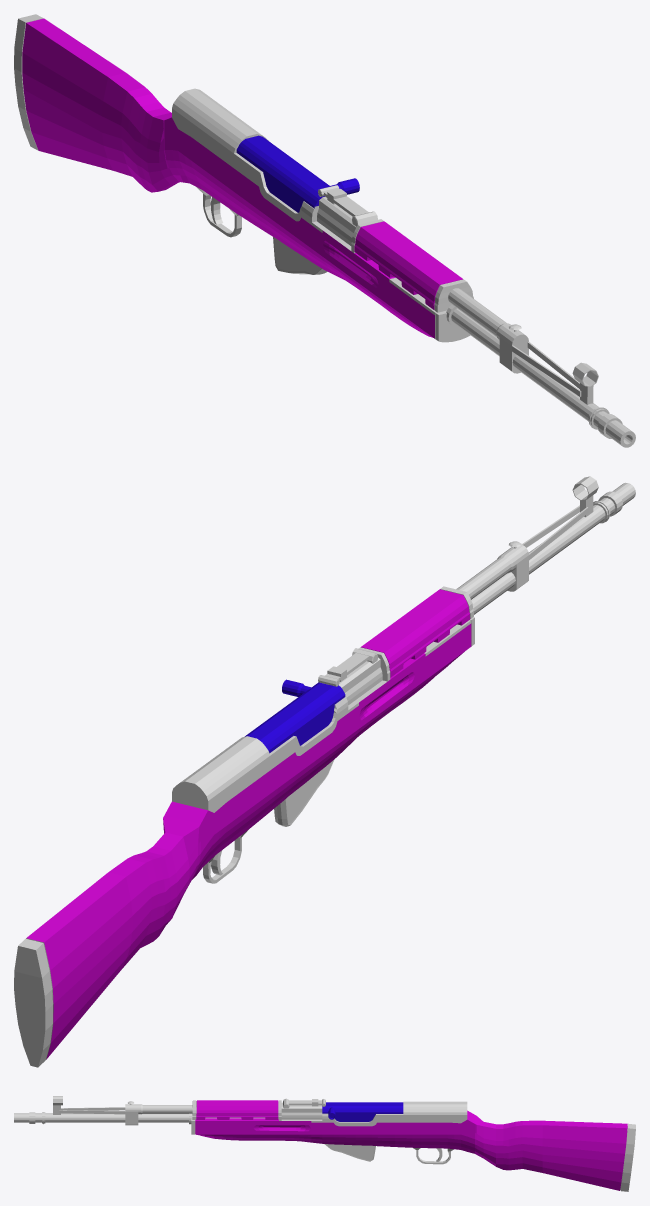
The model's file is SKS.fbx.
3 renders of one model, top to bottom at view 1: azimuth 30°, elevation 25°; view 2: azimuth 150°, elevation 25°; view 3: azimuth 270°, elevation 25°, orthographic. The views are drawn at different scales.
Visible parts, largest first — view 1: Cube; view 2: Cube; view 3: Cube.
Part boxes in pixels (x1,y1,x2,y2): Cube: (14,14,635,447); Cube: (14,476,635,1067); Cube: (14,1096,635,1191).
Bounding box in the file's own units: 0.0294 × 0.5722 × 0.0962.
